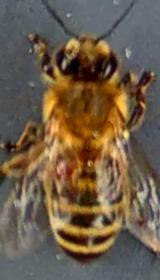varroa_mite: (43, 145, 89, 186)
